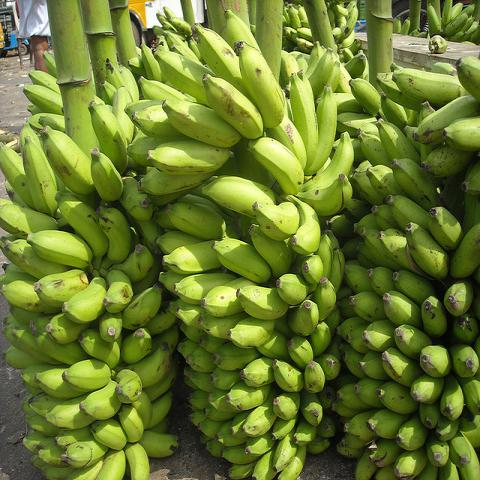car: (128, 1, 154, 46)
